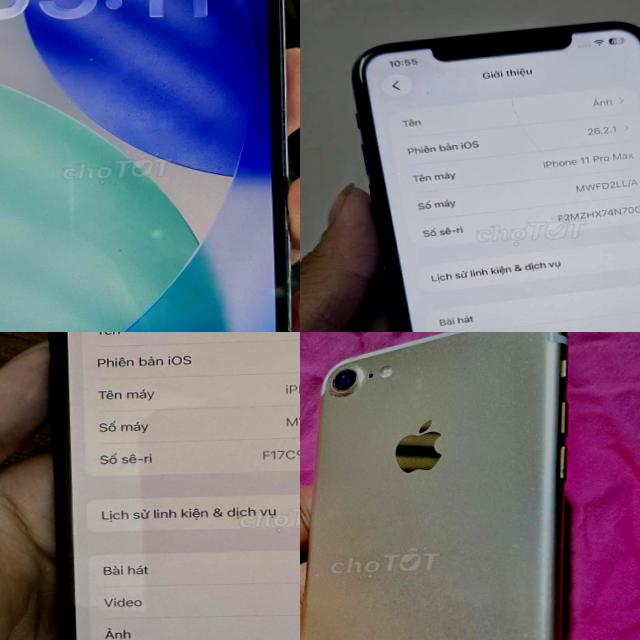gen_11: (334, 16, 640, 332), (49, 332, 300, 640)
gen_12_13: (0, 0, 300, 332)
gen_7_8: (300, 332, 604, 640)
